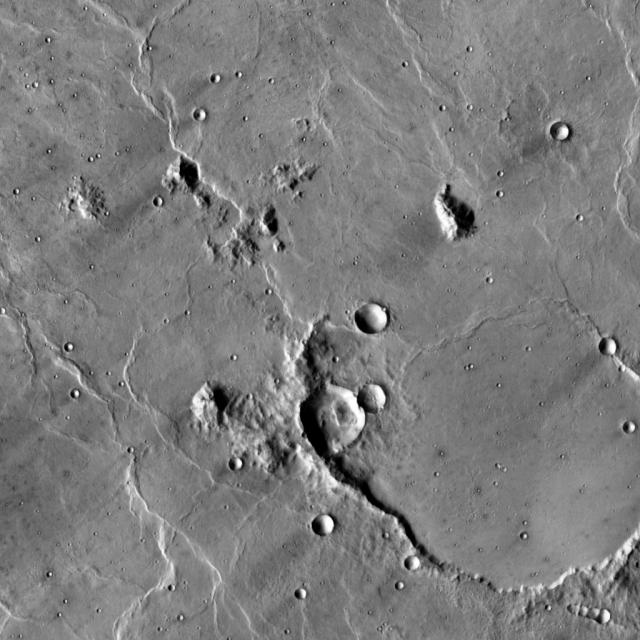crater: (382, 313, 640, 602), (304, 388, 371, 455), (362, 307, 393, 338), (363, 388, 392, 417), (319, 520, 341, 542), (557, 127, 577, 146), (604, 340, 620, 358), (602, 611, 616, 626), (410, 557, 424, 572), (198, 111, 212, 124), (235, 461, 248, 474), (592, 610, 605, 623), (629, 426, 640, 438), (75, 392, 85, 402), (158, 199, 168, 209), (216, 76, 226, 86), (584, 609, 594, 619), (70, 345, 79, 355), (302, 591, 311, 600), (401, 584, 409, 592), (624, 368, 632, 376), (573, 608, 581, 616), (484, 272, 492, 279), (526, 535, 533, 543), (381, 528, 388, 536), (264, 285, 271, 292), (576, 210, 582, 218), (166, 580, 174, 586), (12, 184, 18, 191), (496, 186, 502, 193), (176, 610, 183, 616), (332, 353, 338, 359), (126, 442, 132, 448), (0, 304, 4, 310)
